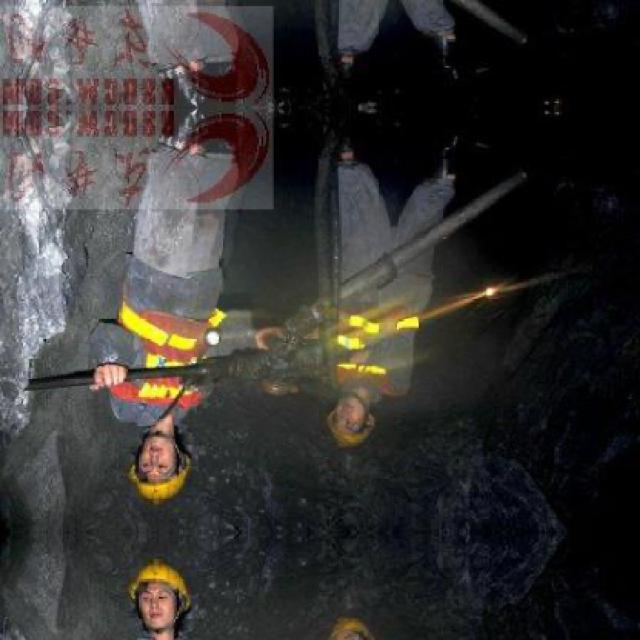con casco: (301, 374, 401, 458), (104, 429, 203, 495)
